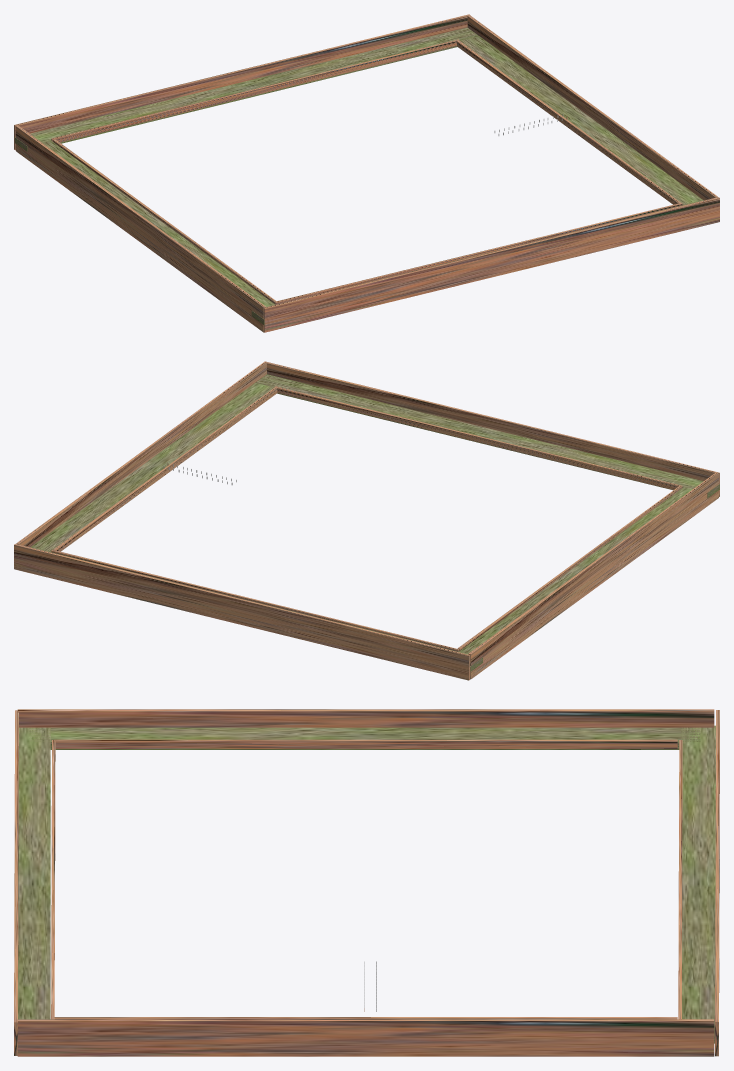
The model's file is walls.obj.
The picture shows the model from 3 angles, top to bottom: view 1: azimuth 30°, elevation 25°; view 2: azimuth 150°, elevation 25°; view 3: azimuth 270°, elevation 25°; orthographic projection. The views are drawn at different scales.
Parts seen in each view (by area): view 1: Cube.048_Cube.050, Cube.046_Cube.048, Cube.047_Cube.049, Cube.123_Cube.122, Cube.125_Cube.124, Cube.045_Cube.047, Cube.117_Cube.113, Cube.126_Cube.125, Cube.115_Cube.003, Cube.118_Cube.115, Cube.116_Cube.112; view 2: Cube.047_Cube.049, Cube.046_Cube.048, Cube.048_Cube.050, Cube.124_Cube.123, Cube.125_Cube.124, Cube.045_Cube.047, Cube.118_Cube.115, Cube.126_Cube.125, Cube.115_Cube.003, Cube.117_Cube.113, Cube.116_Cube.112, Cube.123_Cube.122; view 3: Cube.045_Cube.047, Cube.046_Cube.048, Cube.123_Cube.122, Cube.124_Cube.123, Cube.126_Cube.125, Cube.116_Cube.112, Cube.115_Cube.003, Cube.047_Cube.049, Cube.048_Cube.050, Cube.118_Cube.115, Cube.117_Cube.113.
Part boxes in pixels (left/top/right/bottom): Cube.048_Cube.050: left=264, top=197, right=719, bottom=332; Cube.046_Cube.048: left=16, top=125, right=266, bottom=332; Cube.047_Cube.049: left=14, top=14, right=469, bottom=150; Cube.123_Cube.122: left=15, top=27, right=478, bottom=151; Cube.125_Cube.124: left=455, top=35, right=703, bottom=205; Cube.045_Cube.047: left=467, top=15, right=717, bottom=200; Cube.117_Cube.113: left=51, top=39, right=459, bottom=142; Cube.126_Cube.125: left=42, top=140, right=275, bottom=306; Cube.115_Cube.003: left=457, top=40, right=680, bottom=204; Cube.118_Cube.115: left=274, top=203, right=682, bottom=304; Cube.116_Cube.112: left=53, top=139, right=276, bottom=303; Cube.047_Cube.049: left=14, top=544, right=470, bottom=680; Cube.046_Cube.048: left=468, top=472, right=718, bottom=679; Cube.048_Cube.050: left=264, top=361, right=719, bottom=496; Cube.124_Cube.123: left=255, top=374, right=719, bottom=498; Cube.125_Cube.124: left=31, top=379, right=274, bottom=551; Cube.045_Cube.047: left=16, top=362, right=266, bottom=547; Cube.118_Cube.115: left=275, top=386, right=682, bottom=489; Cube.126_Cube.125: left=459, top=487, right=692, bottom=653; Cube.115_Cube.003: left=53, top=387, right=277, bottom=551; Cube.117_Cube.113: left=51, top=549, right=459, bottom=651; Cube.116_Cube.112: left=457, top=486, right=681, bottom=650; Cube.123_Cube.122: left=30, top=547, right=482, bottom=671; Cube.045_Cube.047: left=17, top=1019, right=714, bottom=1056; Cube.046_Cube.048: left=17, top=709, right=714, bottom=727; Cube.123_Cube.122: left=681, top=725, right=715, bottom=1043; Cube.124_Cube.123: left=18, top=727, right=50, bottom=1019; Cube.126_Cube.125: left=29, top=727, right=700, bottom=749; Cube.116_Cube.112: left=54, top=739, right=677, bottom=748; Cube.115_Cube.003: left=54, top=1017, right=677, bottom=1019; Cube.047_Cube.049: left=715, top=710, right=719, bottom=1056; Cube.048_Cube.050: left=14, top=710, right=18, bottom=1055; Cube.118_Cube.115: left=51, top=740, right=55, bottom=1019; Cube.117_Cube.113: left=678, top=740, right=682, bottom=1019.
Size of the model in its own units: 116 by 6.15 by 111.
11 materials, 10 textured.
